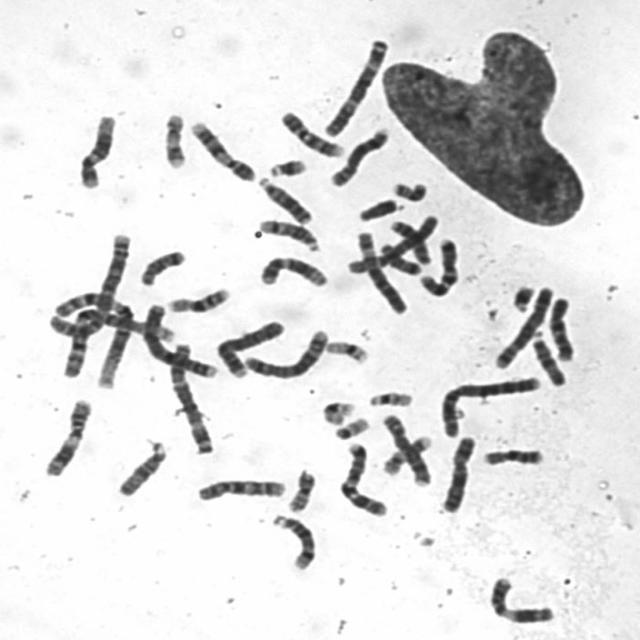A1: (48, 284, 139, 390), (45, 301, 178, 344)
A2: (44, 227, 134, 340), (436, 371, 544, 439)
A3: (319, 33, 392, 137), (163, 336, 217, 456)
B4: (135, 298, 218, 380), (210, 314, 286, 380)
B5: (489, 281, 556, 371), (237, 324, 331, 380)
C10: (192, 473, 288, 503), (545, 291, 578, 364)
C11: (38, 393, 95, 478), (485, 571, 558, 626)
C12: (73, 108, 118, 190), (254, 251, 331, 289)
C6: (341, 210, 441, 276), (351, 226, 409, 316)
C7: (335, 438, 390, 518), (414, 233, 462, 298)
C8: (377, 409, 434, 488), (324, 123, 392, 188)
C9: (185, 115, 257, 183), (276, 106, 346, 158)
D13: (252, 172, 314, 226), (386, 215, 436, 266)
D14: (266, 509, 318, 572), (254, 214, 322, 254)
D15: (111, 435, 169, 498), (527, 327, 569, 388)
E16: (162, 282, 233, 314), (478, 443, 546, 468)
E17: (377, 430, 435, 477), (157, 107, 189, 170)
E18: (135, 244, 187, 287), (376, 238, 424, 277)
F19: (321, 335, 372, 365), (316, 395, 358, 427)
F20: (283, 464, 318, 514), (386, 176, 430, 202)
G21: (263, 152, 309, 179), (507, 280, 538, 314)
G22: (329, 412, 372, 441), (363, 386, 415, 409)
X: (435, 430, 480, 514)
Y: (353, 193, 402, 223)
